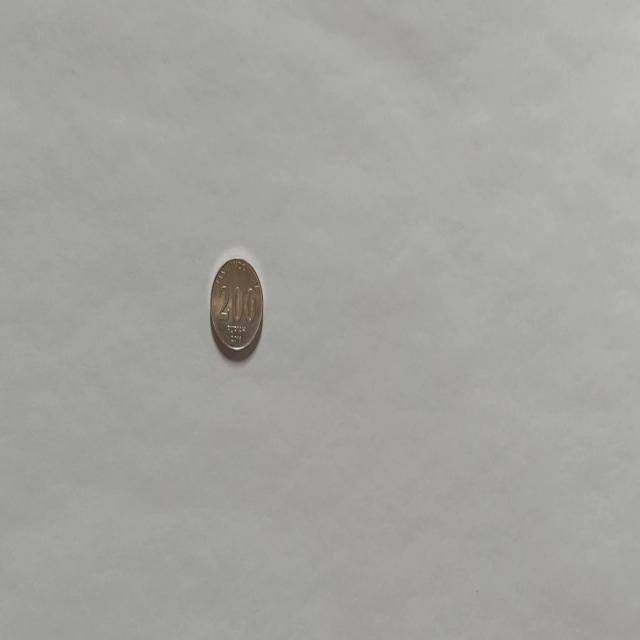dua ratus rupiah: (208, 255, 264, 358)
